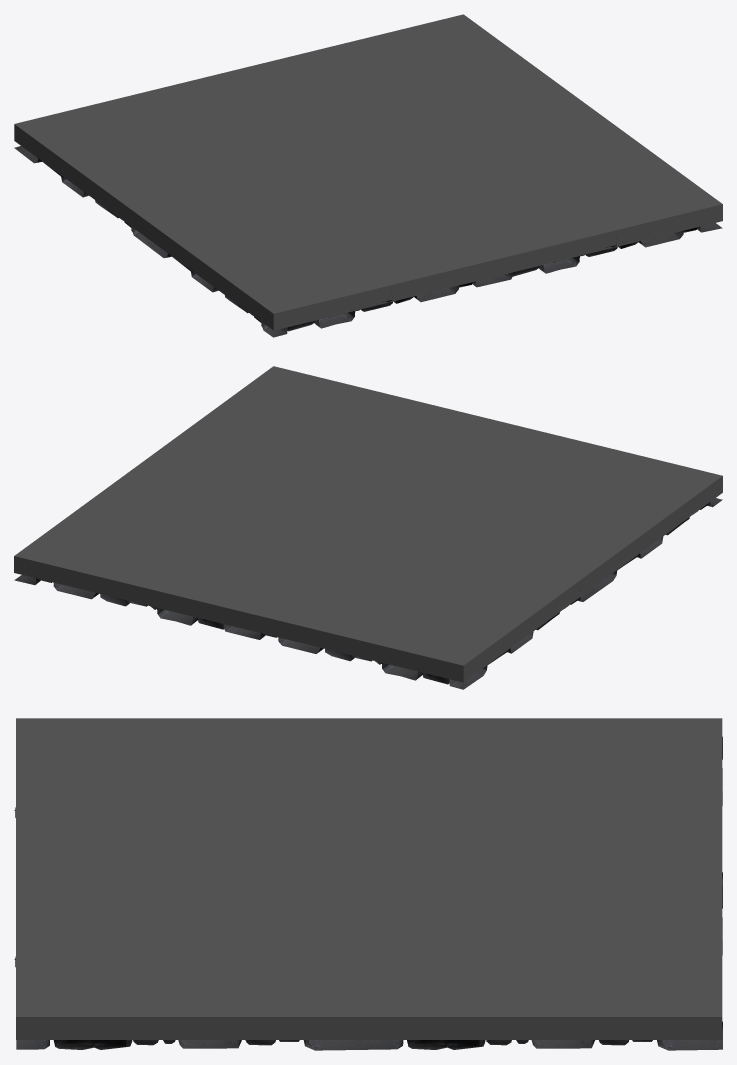
Rendered from Ceiling_plain.fbx.
3 views of the same model, one above another, from view 1: azimuth 30°, elevation 25°; view 2: azimuth 150°, elevation 25°; view 3: azimuth 270°, elevation 25° (orthographic). The views are drawn at different scales.
Visible parts, largest first — view 1: Ceiling_Plain_Decimated; view 2: Ceiling_Plain_Decimated; view 3: Ceiling_Plain_Decimated.
Boxes of the visible parts, box(x1,y1,x2,y2) form: Ceiling_Plain_Decimated: box(14, 14, 722, 337); Ceiling_Plain_Decimated: box(14, 366, 722, 689); Ceiling_Plain_Decimated: box(14, 718, 722, 1050).
Bounding box in the file's own units: 300 × 17.25 × 301.
Materials: 2 (1 with a texture image).
